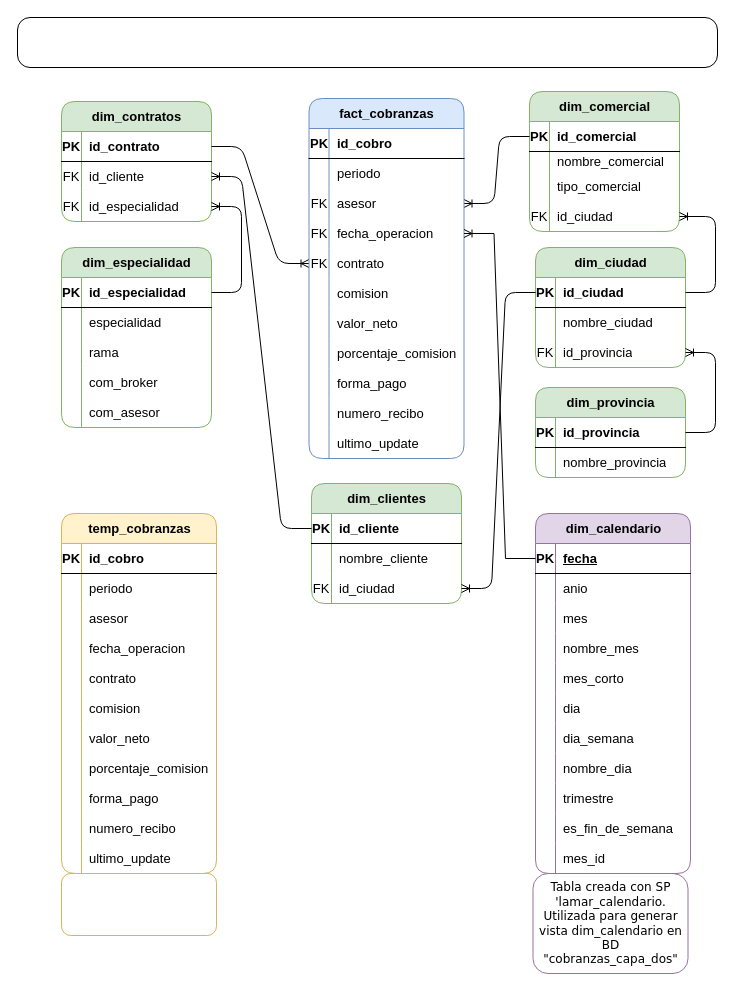
Image size: 741x991. Some labels were removed from this diagram. The shapes that lost their labels are listed below. From the top down, each one's centre as x and y in pixels, then its label:
At (x=367, y=42): "BD: cobranzas_capa_uno Diagrama Entidad-Relación".
At (x=138, y=904): "Tabla para estacionar datos previo a ingesta en 'fact_cobranzas'".
